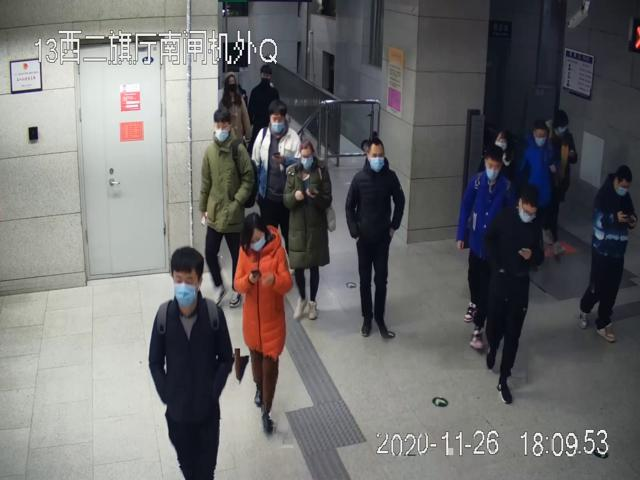person: (149, 248, 236, 480), (484, 185, 545, 405), (345, 136, 407, 342), (237, 212, 293, 436), (457, 143, 515, 351), (198, 109, 253, 307), (582, 164, 636, 344), (283, 140, 335, 324), (251, 100, 303, 232)
